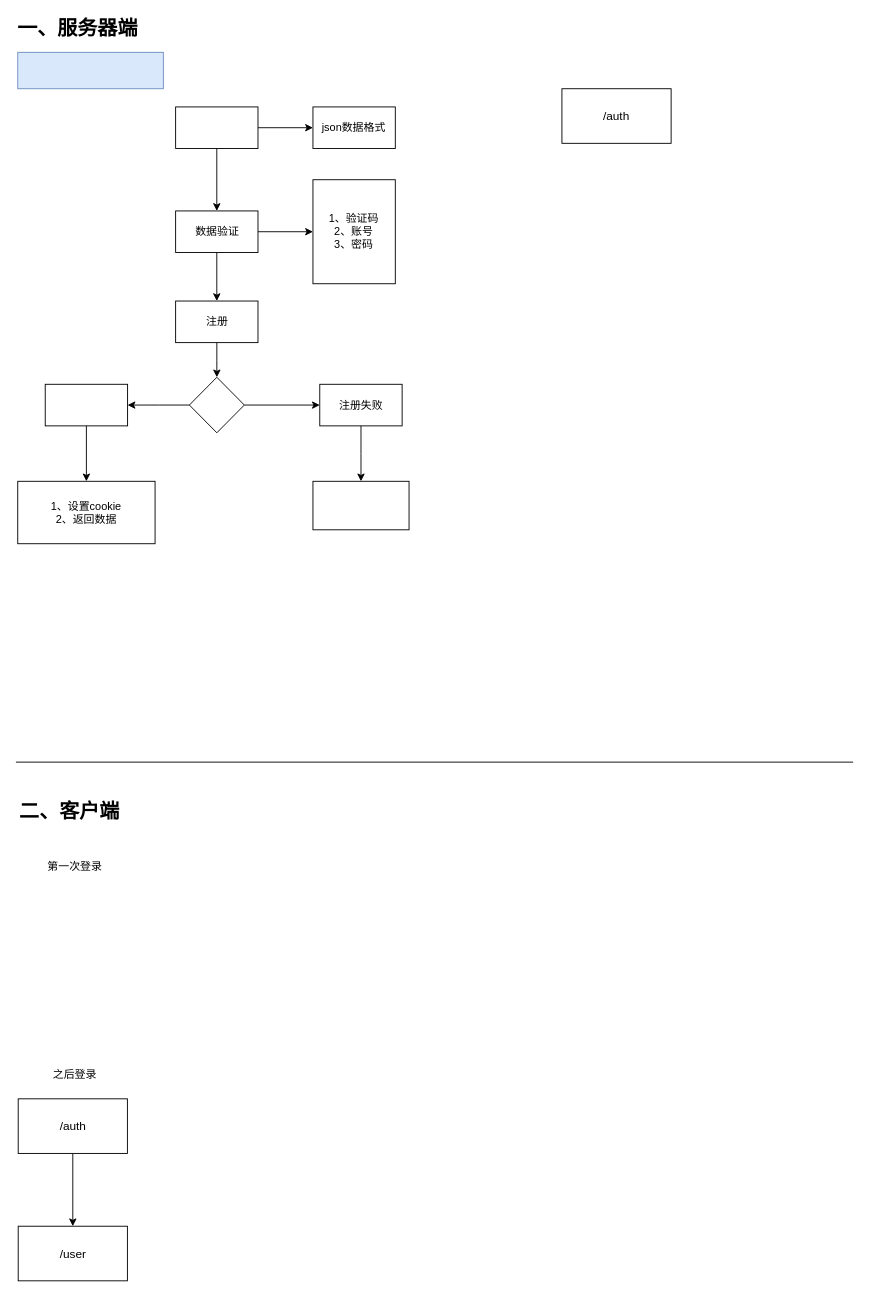
Some shapes in this 870 by 1297 pixel diagram are drawn without their labels. The shapes that lost their labels are listed below. From the top down, each one's box as (x1, y1, x2, y2) in pixels, then its label:
(17, 51, 163, 89): 1.1 流程
(175, 106, 258, 149): 获取数据
(44, 383, 128, 426): 注册成功
(312, 480, 409, 530): 1、返回数据
